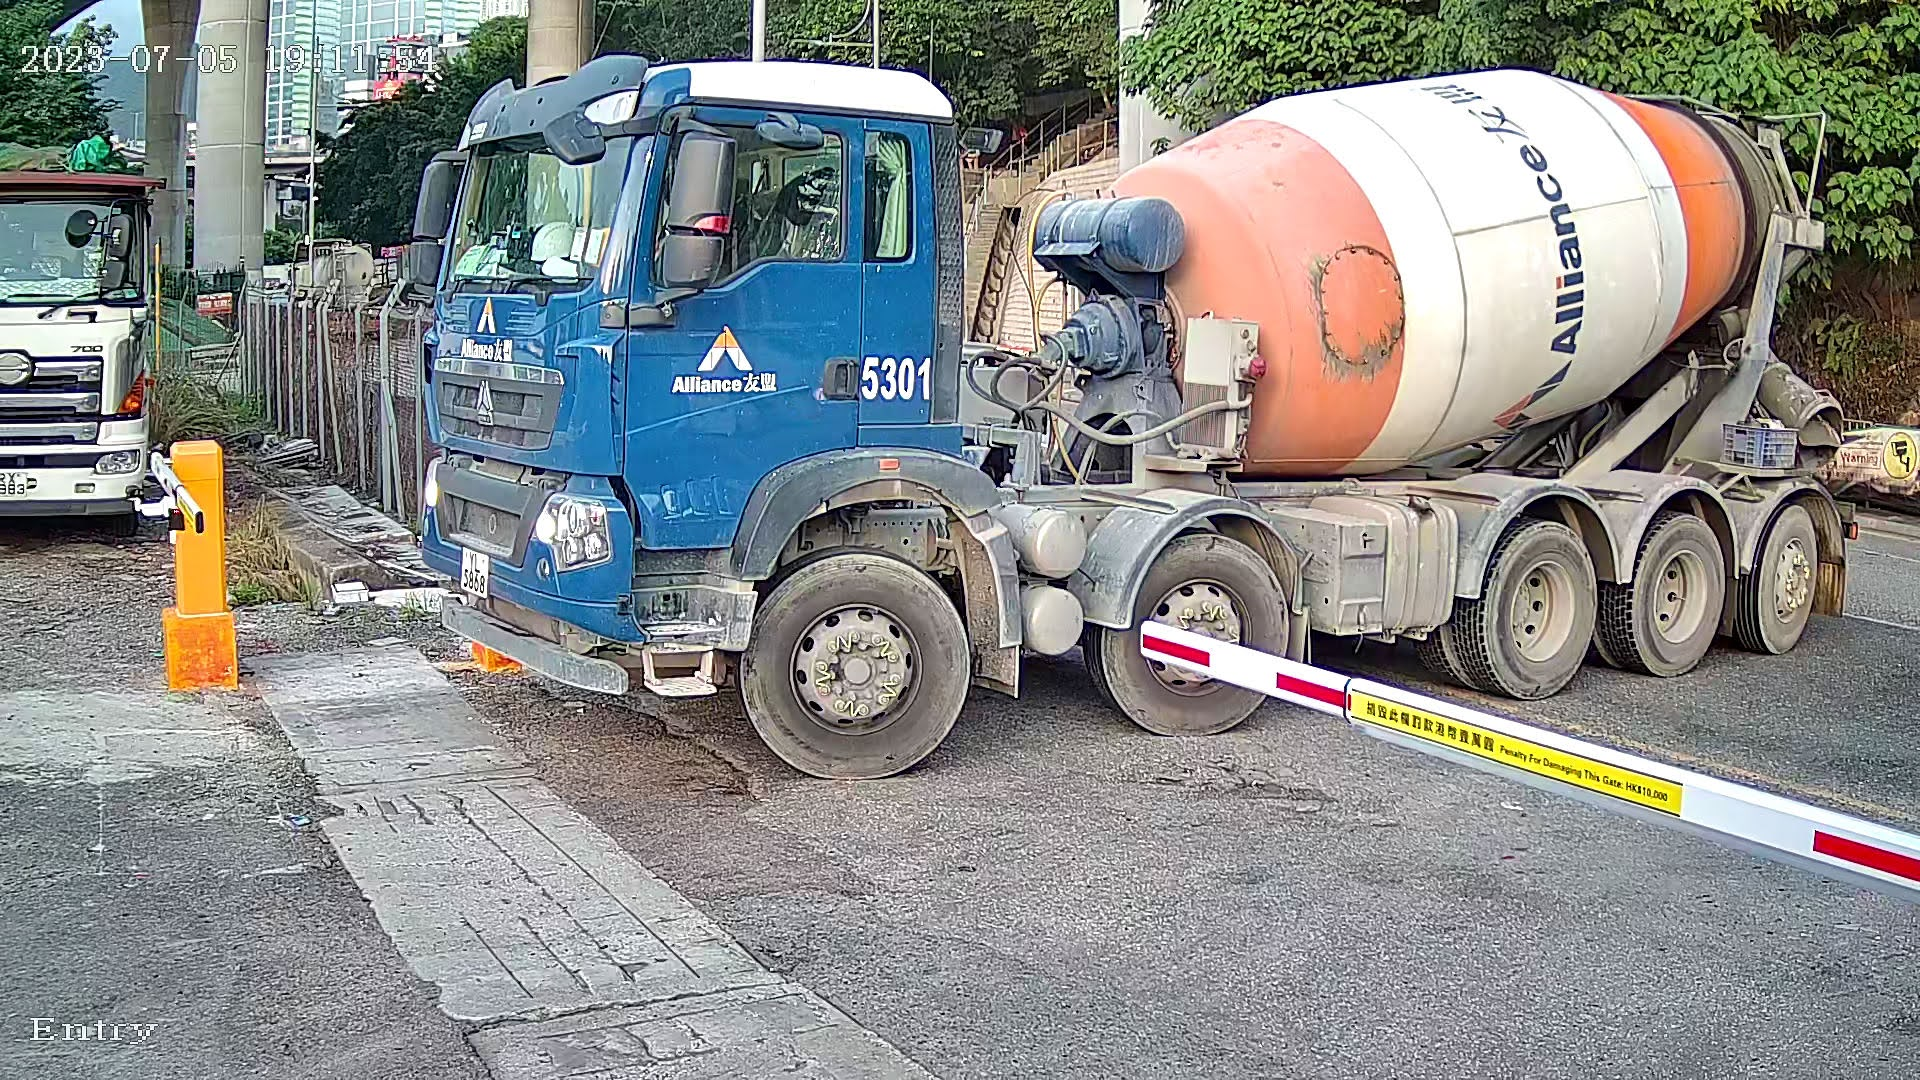truck: (369, 7, 1851, 812)
